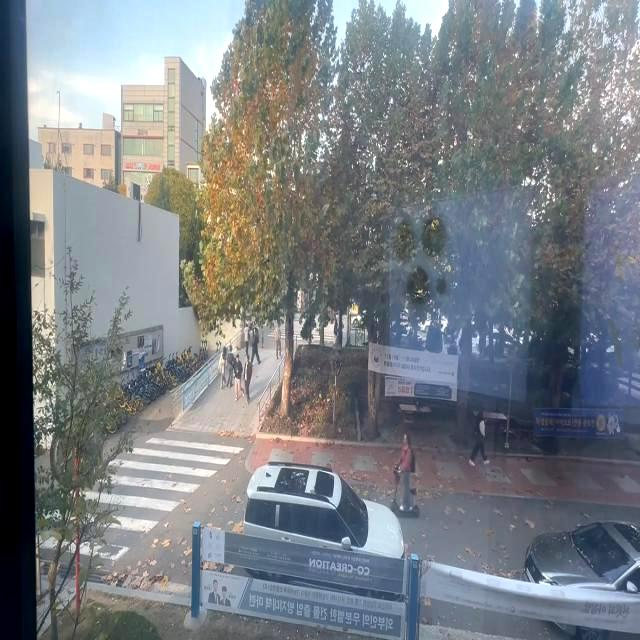bare_head: (399, 428, 419, 446)
human: (392, 423, 419, 505)
kickboard: (386, 498, 431, 523)
